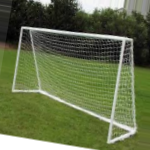goals: (10, 24, 140, 144)
